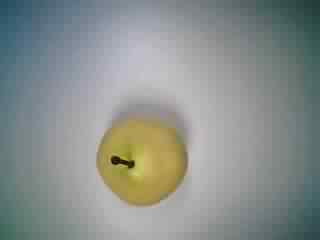pear: (85, 109, 195, 215)
